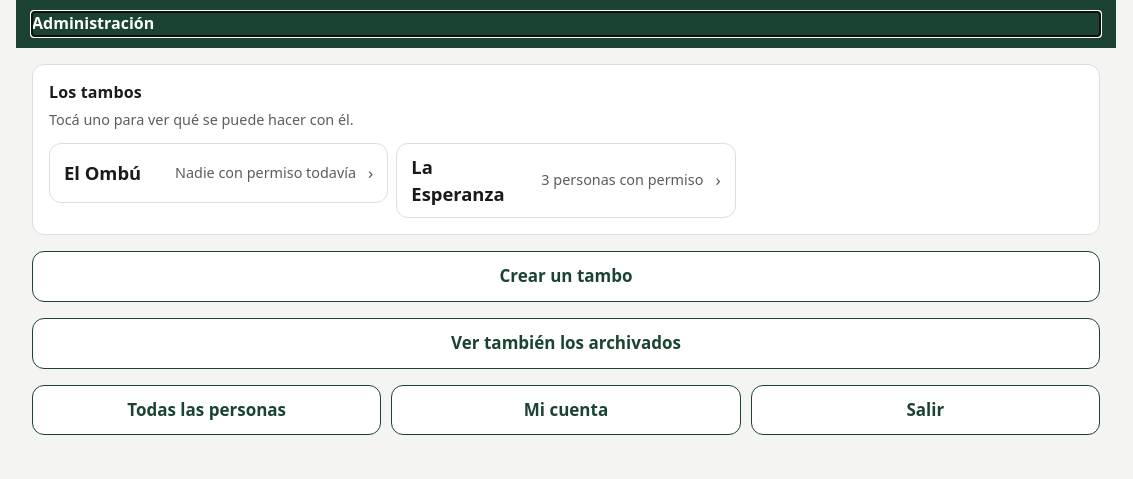
los archivados en la lista › no vienen, hasta que alguien los va a buscar
The width and height of the screenshot is (1133, 479).
Expected: the link "El Ombú Nadie con permiso todavía ›" is shown, [49,143,388,203]
Expected: the text "La Que Cerró" is not shown
Click the button "Ver también los archivados".
click(566, 343)  # box [32,318,1100,369]
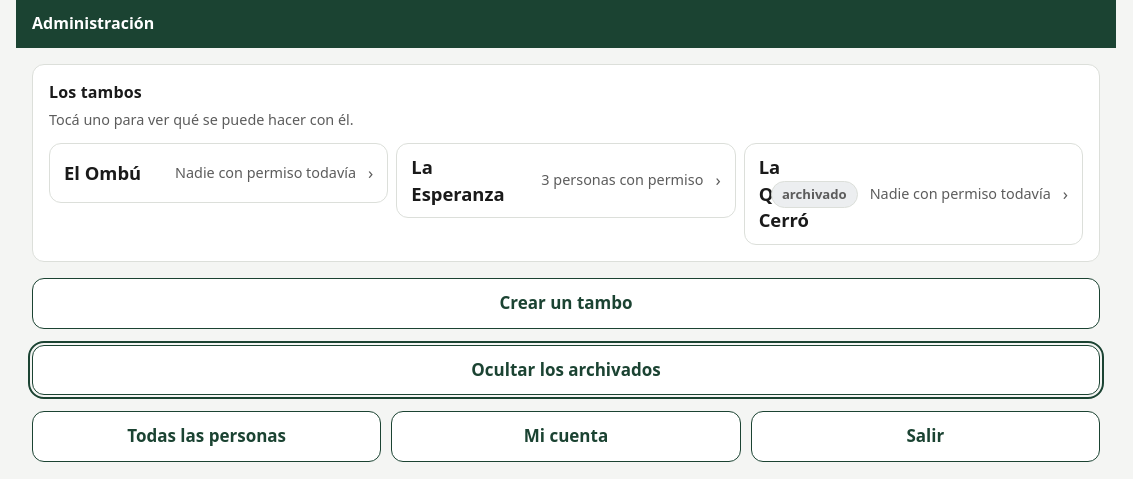
Now the text "archivado" is shown, box [771,181,858,208]
